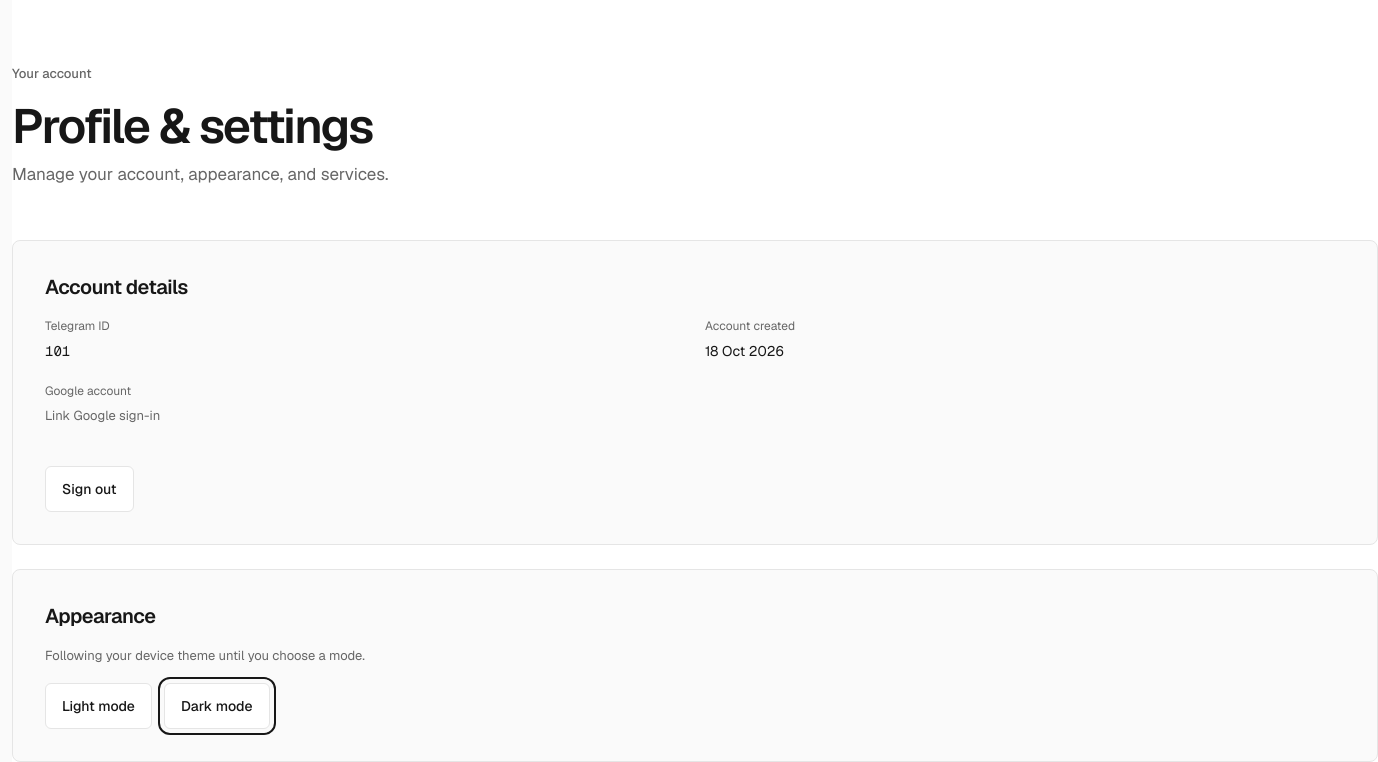
Test case: profile settings and confirmations › keeps the previous theme when saving fails
Step 1. Click the button "Dark mode" → (217, 706), box [164,683,270,729]
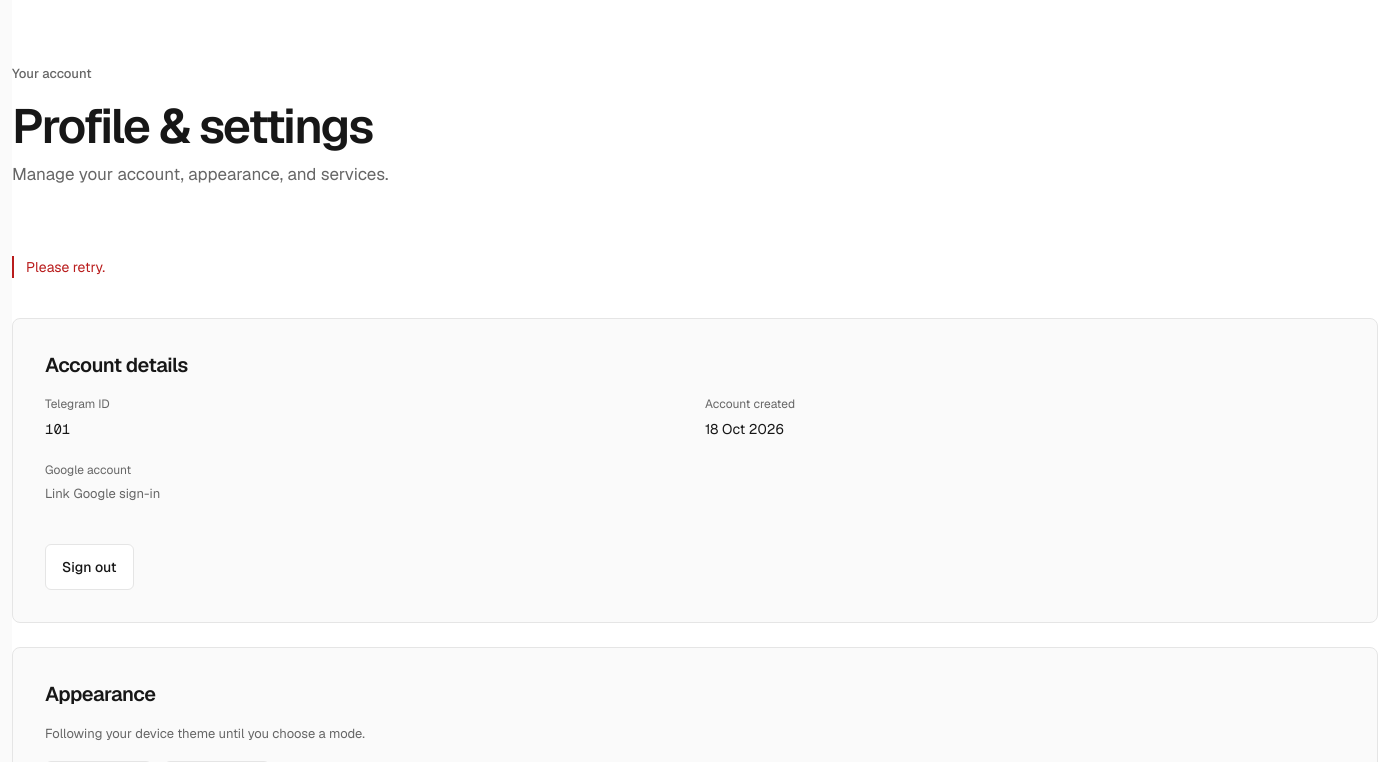
Check: the message "Please retry." is shown, box [12,256,1377,278]
